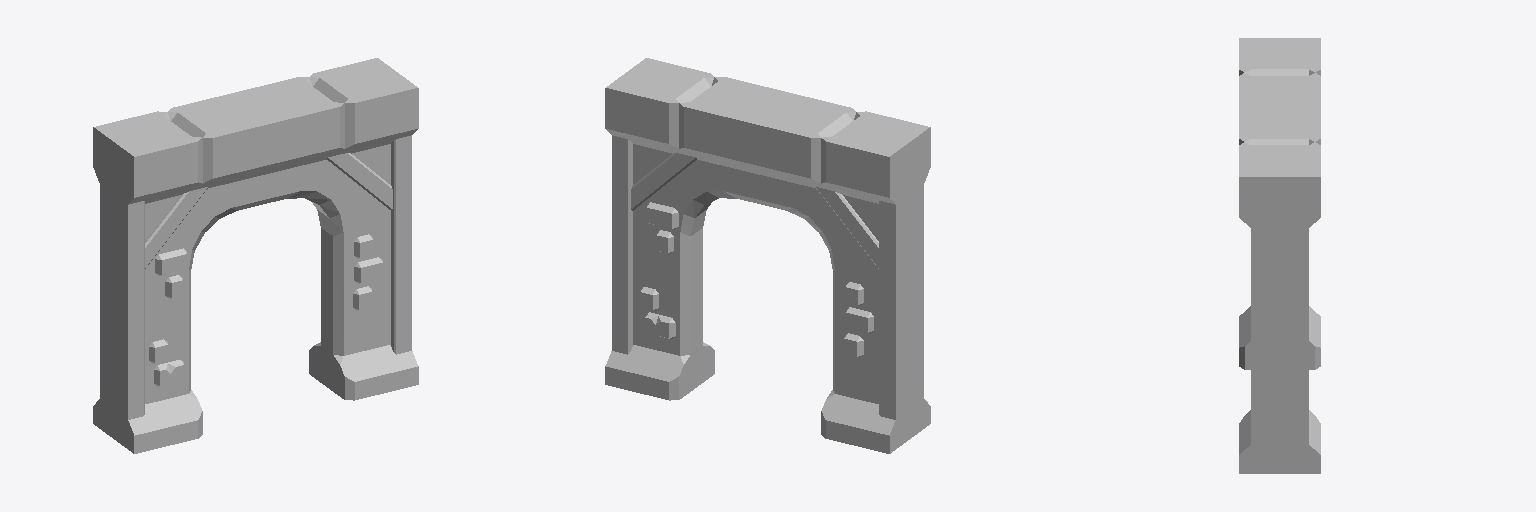
File: wall_doorway_scaffold.obj
3 renders of one model, left to right at view 1: azimuth 30°, elevation 25°; view 2: azimuth 150°, elevation 25°; view 3: azimuth 270°, elevation 25°, orthographic.
Parts seen in each view (by area): view 1: wall_doorway_scaffold; view 2: wall_doorway_scaffold; view 3: wall_doorway_scaffold.
Boxes of the visible parts, x1,y1,x2,y2 form: wall_doorway_scaffold: [93, 58, 418, 453]; wall_doorway_scaffold: [605, 58, 930, 453]; wall_doorway_scaffold: [1239, 38, 1320, 473].
Bounding box in the file's own units: 4 × 4 × 1.